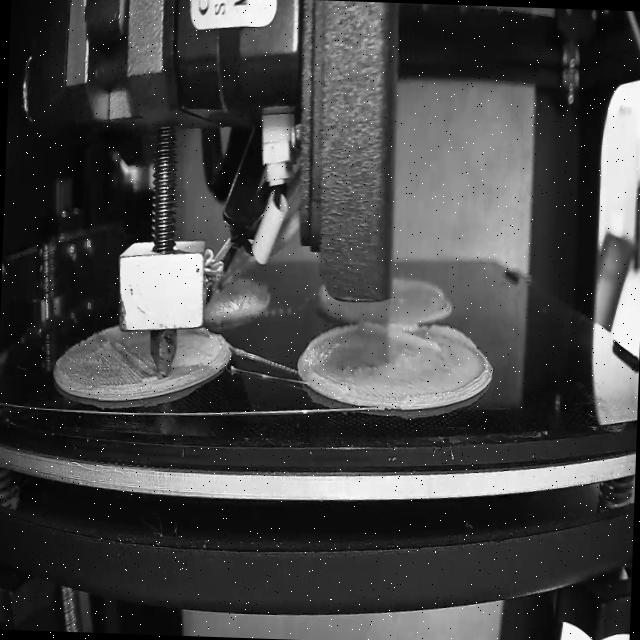over_extrusion: (300, 319, 362, 396), (365, 321, 478, 359)
